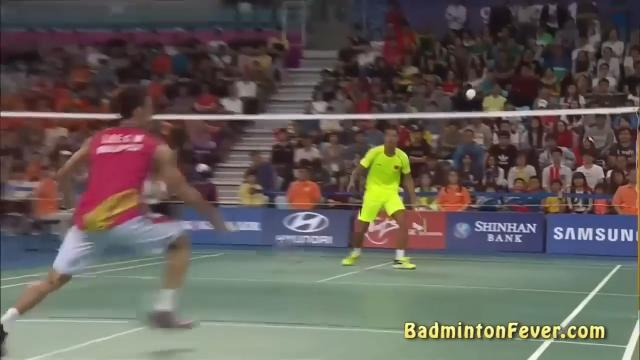Shuttlecock: (464, 85, 481, 101)
